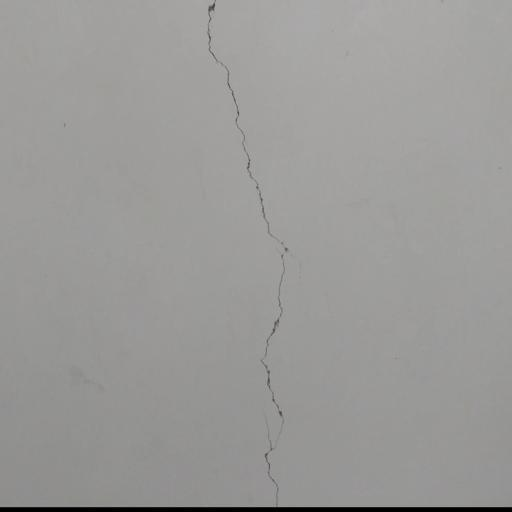minor_crack: (190, 0, 315, 512)
